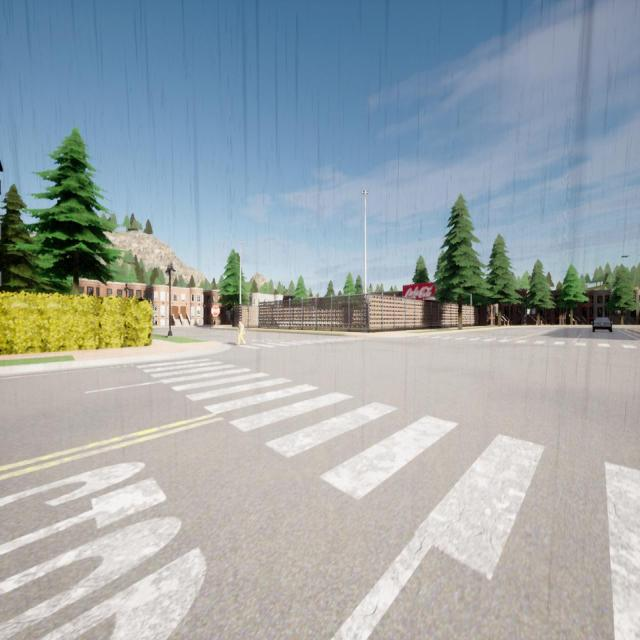Pedestrian: (238, 320, 245, 344)
Traffic_Signs: (212, 306, 219, 316)
Vehicle: (593, 318, 612, 332)
